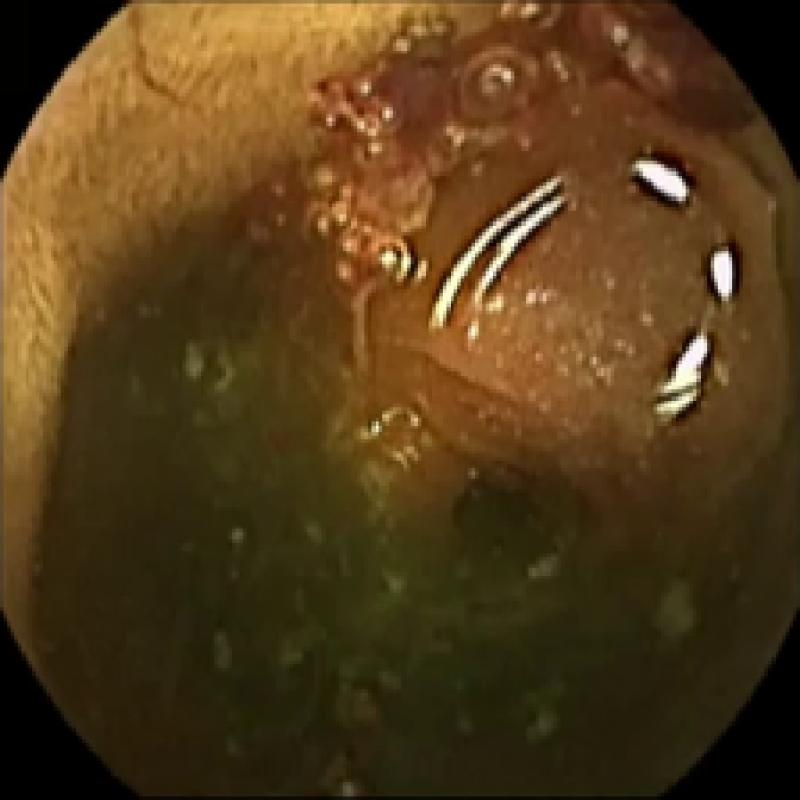bleeding: (289, 11, 772, 214)
